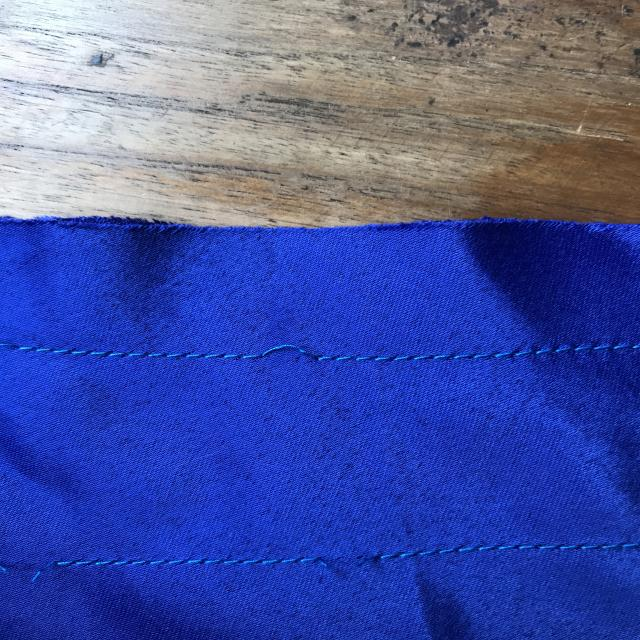broken: (294, 512, 406, 596)
good: (52, 324, 172, 374), (420, 343, 580, 378)
skip: (238, 326, 342, 384)
